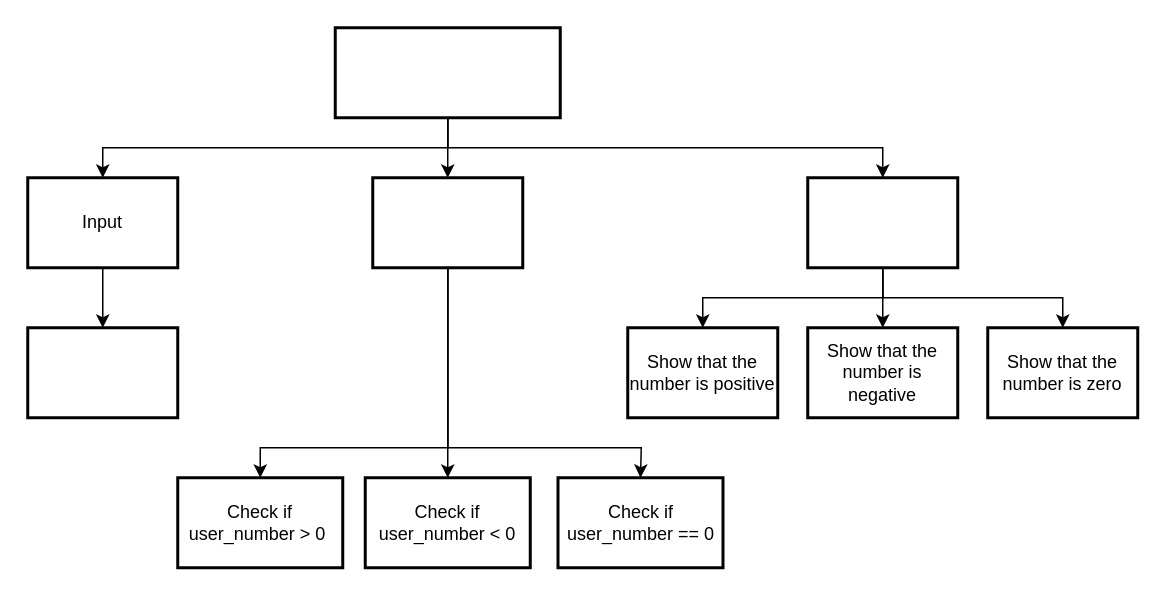
This 1164x594 diagram has some shape labels left out. The centre of each missing label's shape, as x and y in pixels:
"Get user_number" goes at pixel 102 372.
"Output" goes at pixel 882 222.
"positive_negative_zero" goes at pixel 447 72.
"Process" goes at pixel 447 222.
